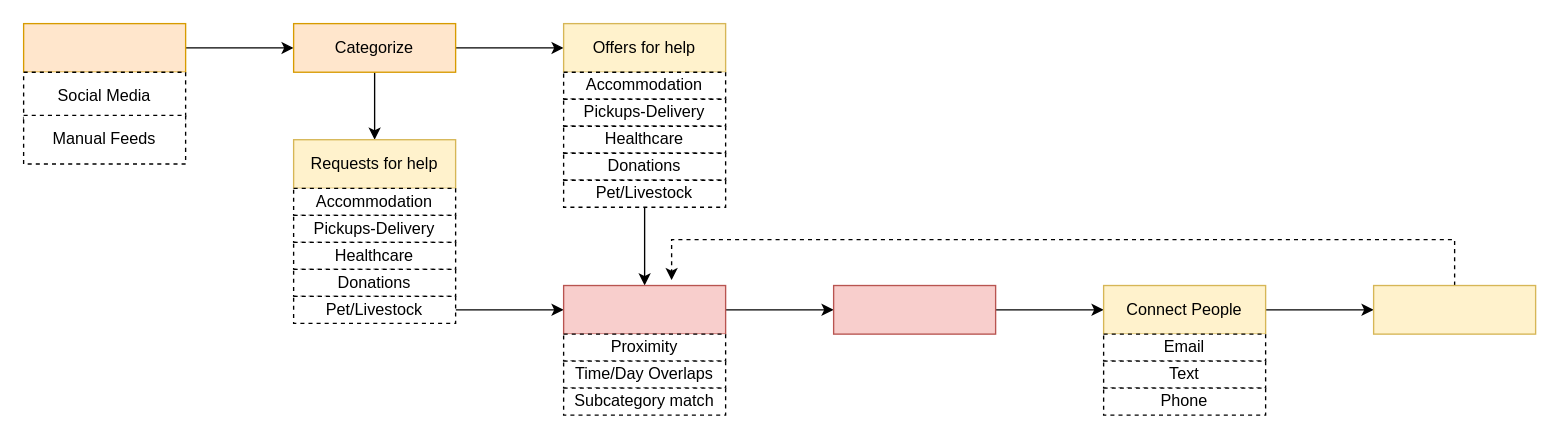
Some shapes in this 1559 by 439 pixel diagram are drawn without their labels. The centre of each missing label's shape, as x and y in pixels:
Capture Feedback: (1454,309)
Data: (104,47)
Match Reccommendations: (644,309)
Matches: (914,309)
